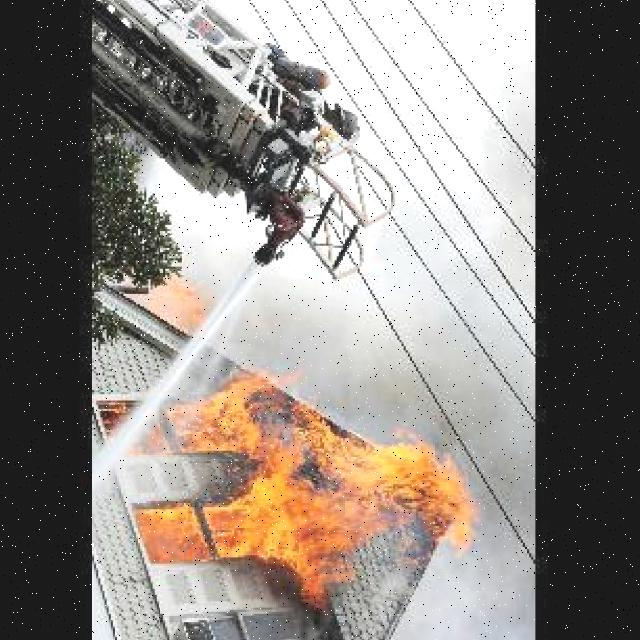fire: (124, 362, 484, 610), (140, 269, 211, 338)
